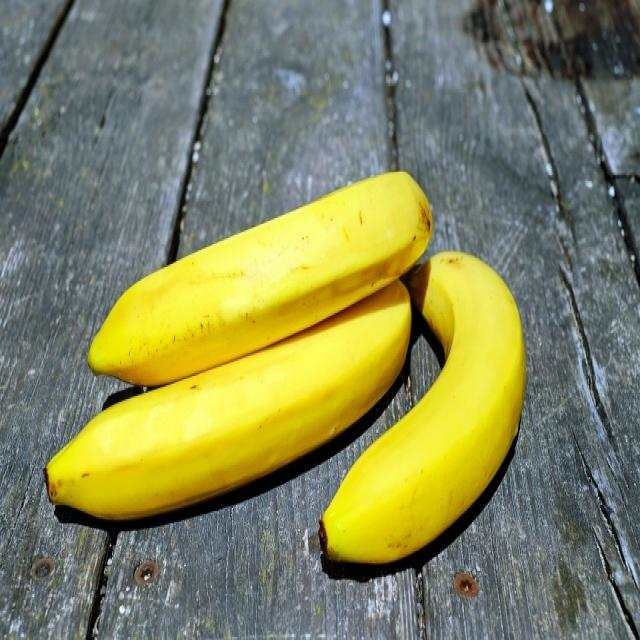banana: (47, 280, 407, 512), (86, 164, 428, 376), (318, 236, 530, 573)
